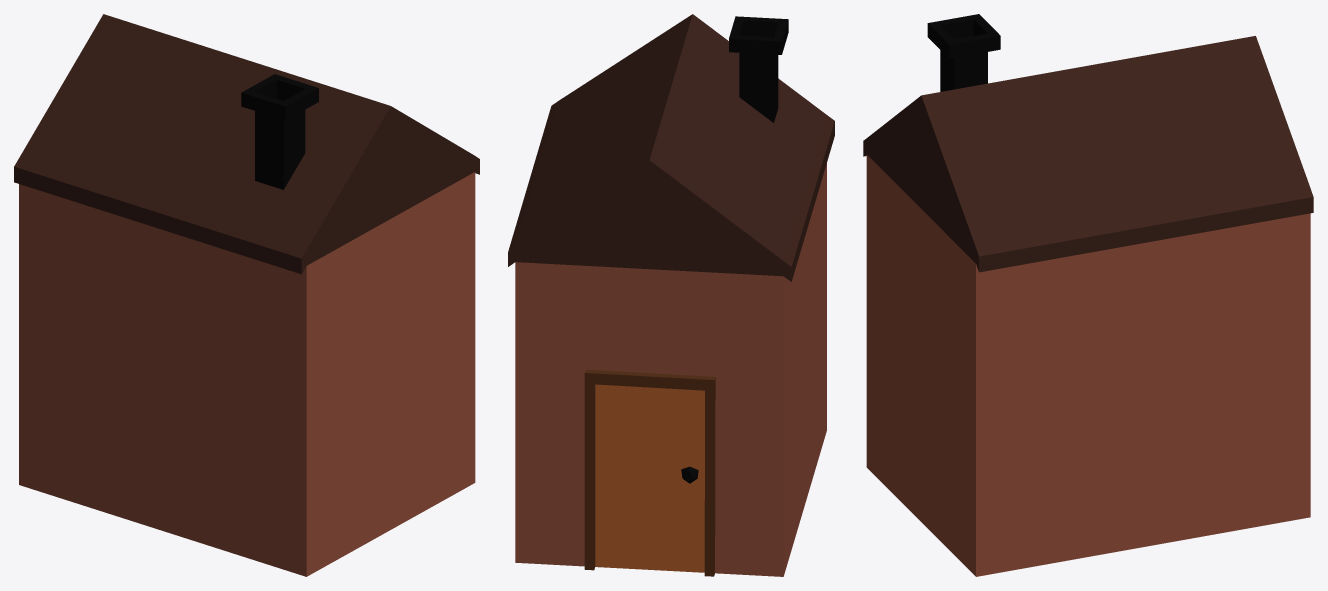
The model's file is huis.fbx.
3 renders of one model, left to right at view 1: azimuth 30°, elevation 25°; view 2: azimuth 150°, elevation 25°; view 3: azimuth 270°, elevation 25°, orthographic. The views are drawn at different scales.
Visible parts, largest first — view 1: House.002; view 2: House.002; view 3: House.002.
Boxes of the visible parts, x1,y1,x2,y2 form: House.002: (14,14,479,576); House.002: (508,14,834,576); House.002: (863,14,1313,576).
Bounding box in the file's own units: 17.85 × 21.29 × 19.35.
